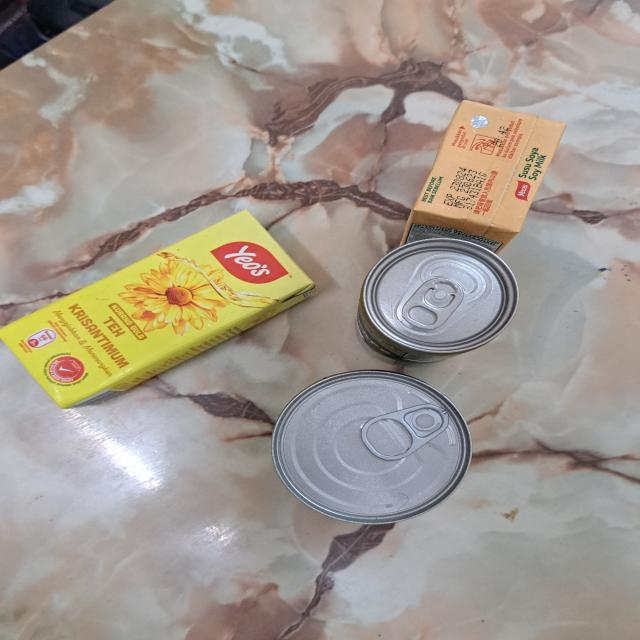can: (270, 368, 472, 526), (356, 238, 520, 364)
drink carton: (0, 209, 322, 410), (397, 99, 570, 254)
pop tab: (361, 404, 450, 461), (403, 278, 466, 330)
